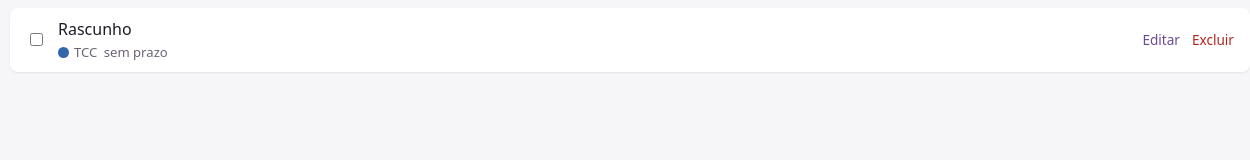
Test: TaskRow › não salva título vazio
Click the button named "Editar \"Rascunho\"" at x=1161, y=40, box x1=1138 y1=26 x2=1184 y2=54
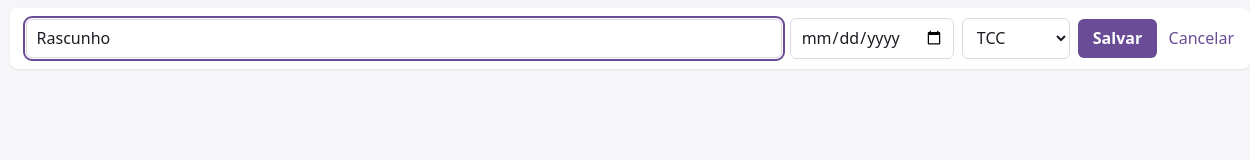
Clear the field named "Título" at x=404, y=38, box x1=26 y1=19 x2=782 y2=58
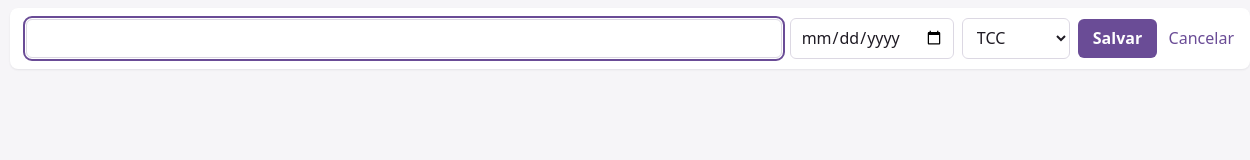
Click the button "Salvar" at x=1118, y=38, box x1=1078 y1=19 x2=1157 y2=58
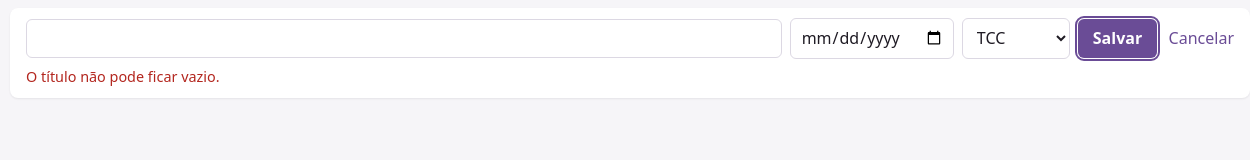
Expected: the text "O título não pode ficar vazio." is shown, x1=26 y1=67 x2=220 y2=86
